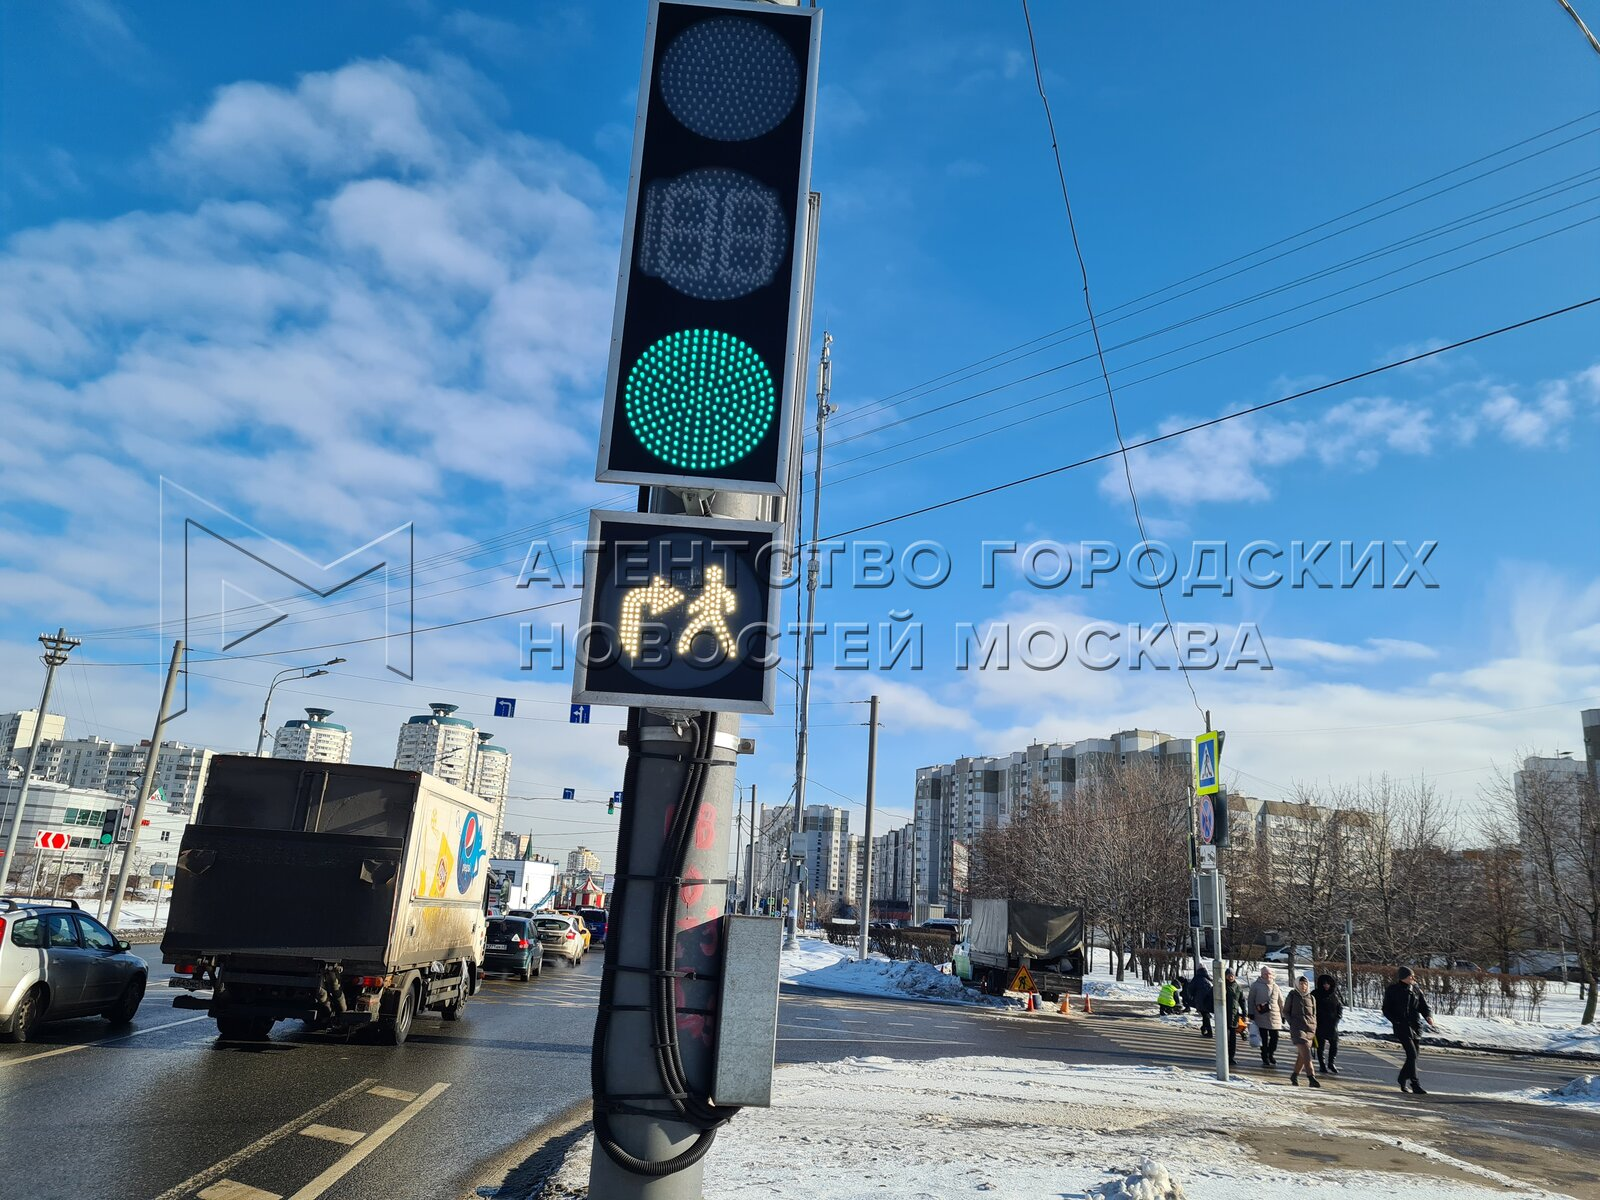tl: (606, 1, 803, 514)
